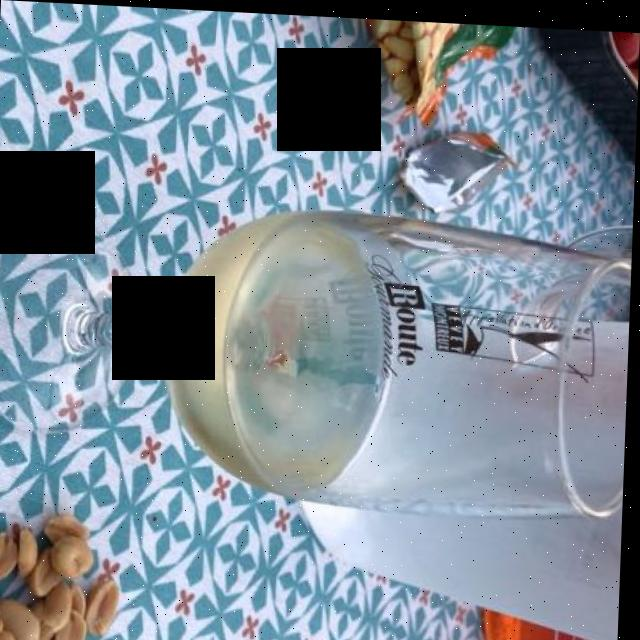wine-white: (170, 219, 377, 518)
